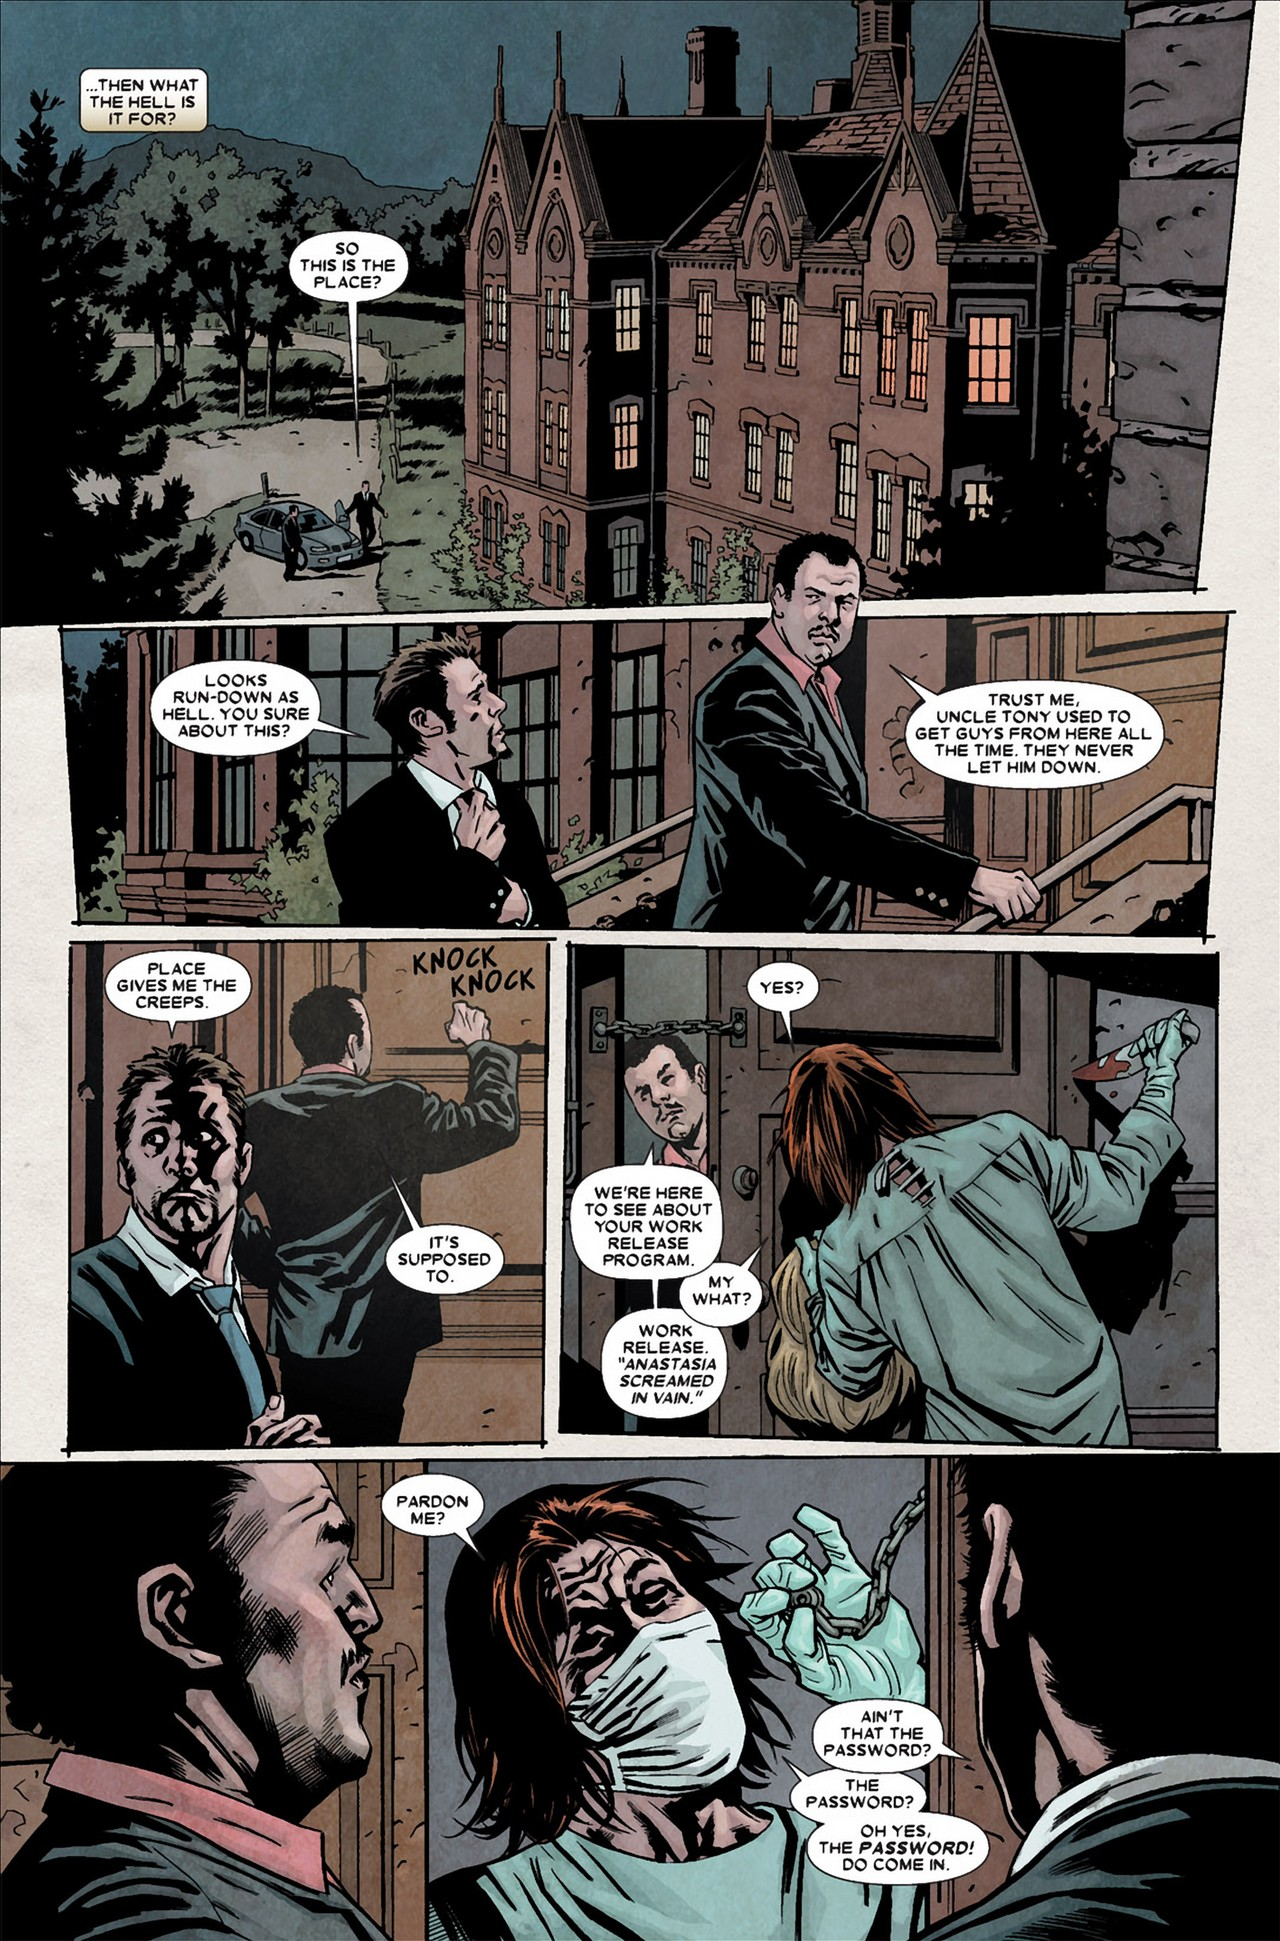Baloon: (880, 661, 1166, 793), (144, 656, 364, 770), (789, 1770, 994, 1881), (291, 231, 403, 406), (100, 946, 269, 1043), (571, 1167, 714, 1281), (389, 1178, 497, 1311), (606, 1303, 730, 1414), (811, 1700, 983, 1772), (380, 1473, 486, 1564), (80, 76, 206, 131), (744, 958, 811, 1040), (689, 1270, 769, 1317)
Vignetta: (1, 1, 1250, 628), (1, 1437, 1280, 1941), (59, 608, 1230, 928), (561, 940, 1227, 1445), (69, 937, 550, 1445)
